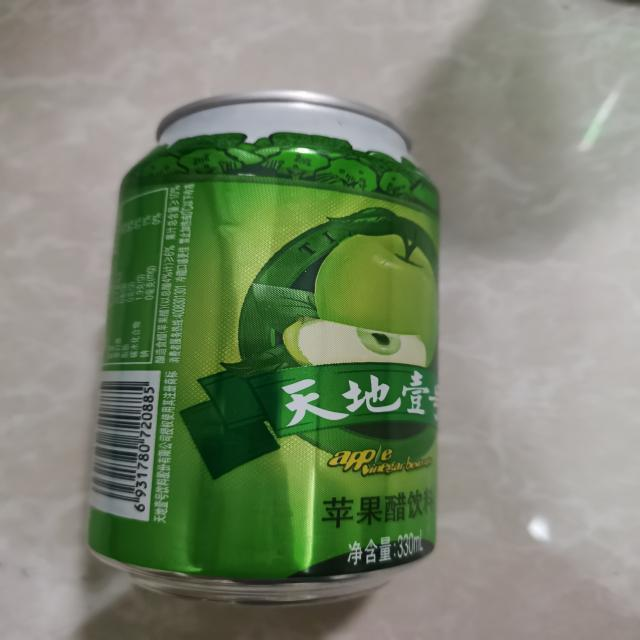kimloai: (90, 92, 439, 601)
